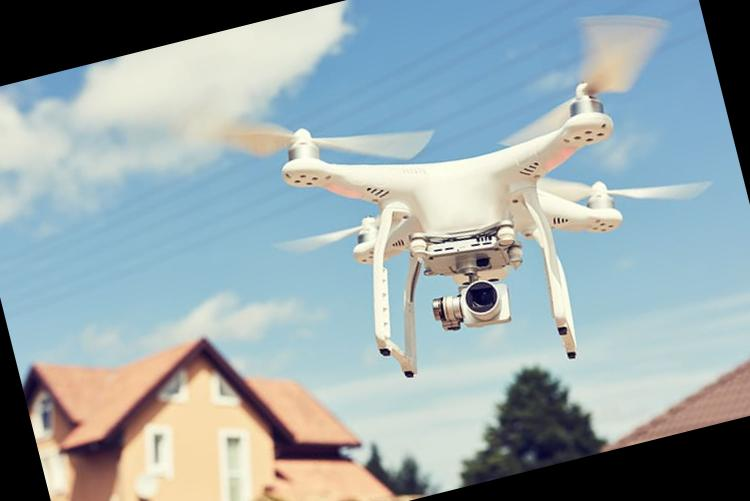drone: (165, 0, 709, 354)
